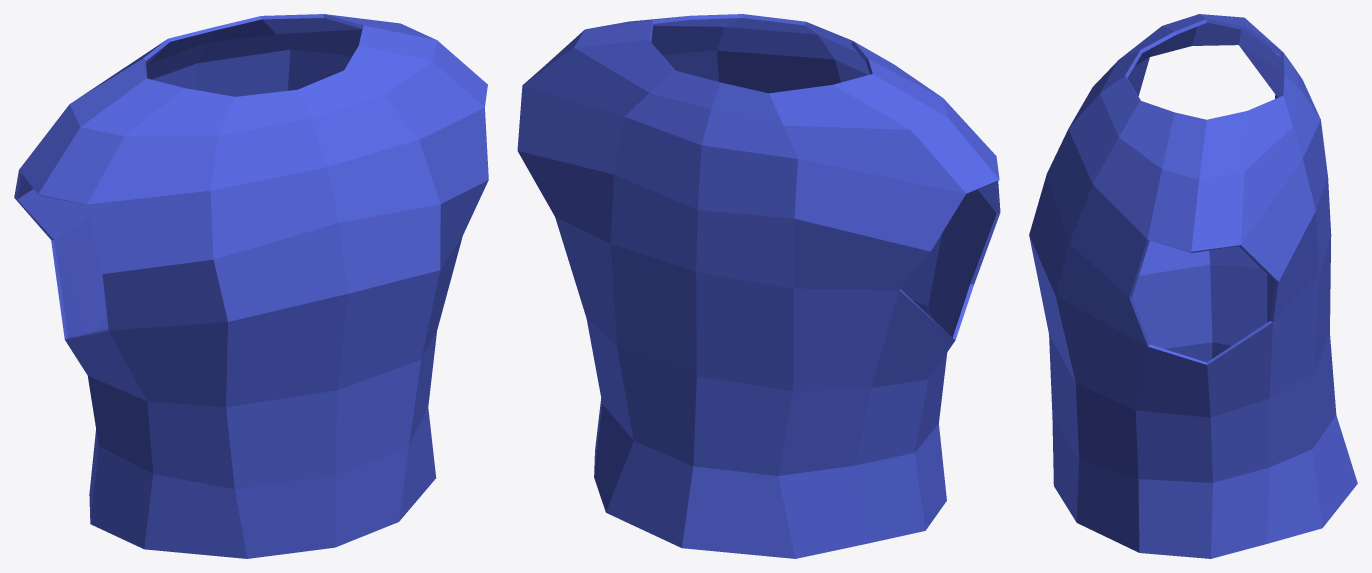
Rendered from Shirt1.fbx.
3 views of the same model, side by side, from view 1: azimuth 30°, elevation 25°; view 2: azimuth 150°, elevation 25°; view 3: azimuth 270°, elevation 25° (orthographic). The views are drawn at different scales.
Visible parts, largest first — view 1: Shirt1; view 2: Shirt1; view 3: Shirt1.
Boxes of the visible parts, box(x1,y1,x2,y2) form: Shirt1: box(14, 14, 488, 558); Shirt1: box(517, 14, 1000, 558); Shirt1: box(1029, 14, 1357, 558).
Size of the model in its own units: 122 by 114 by 80.94.
